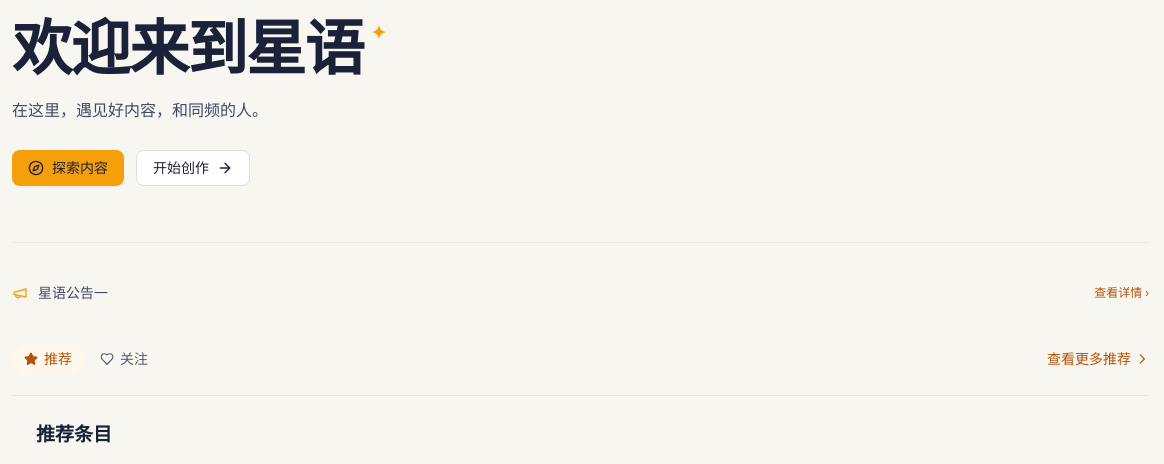
Test case: home (guest) › shows 查看更多 on 推荐 only, and only to /discover
This screenshot has width=1164, height=464.
关注 has no "more" page — /me/following is the follow graph, not a feed.
Click the tab "关注".
click(124, 359)  # box x1=88 y1=343 x2=160 y2=375
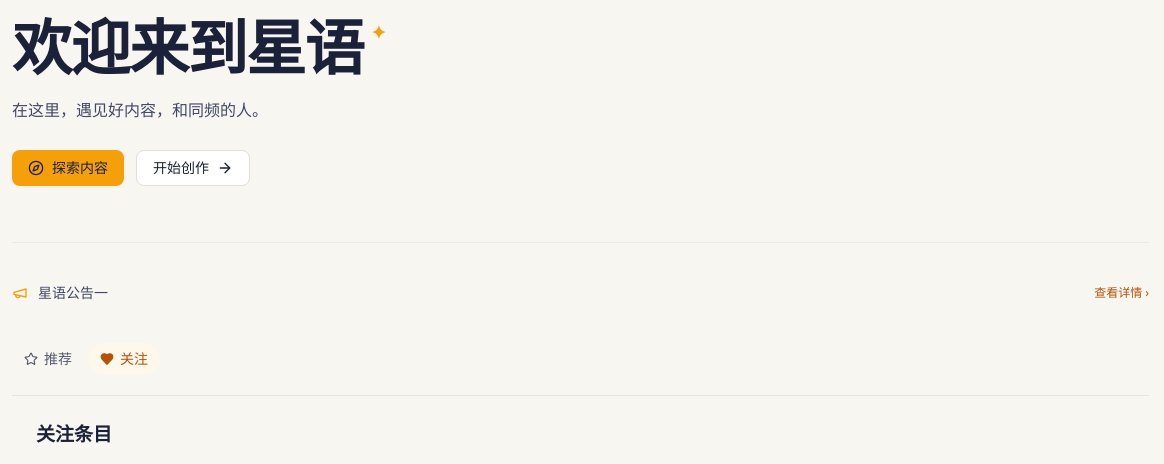
Expected: the link "关注条目" is shown, x1=36 y1=421 x2=112 y2=447
Expected: the link "查看更多" is gone
